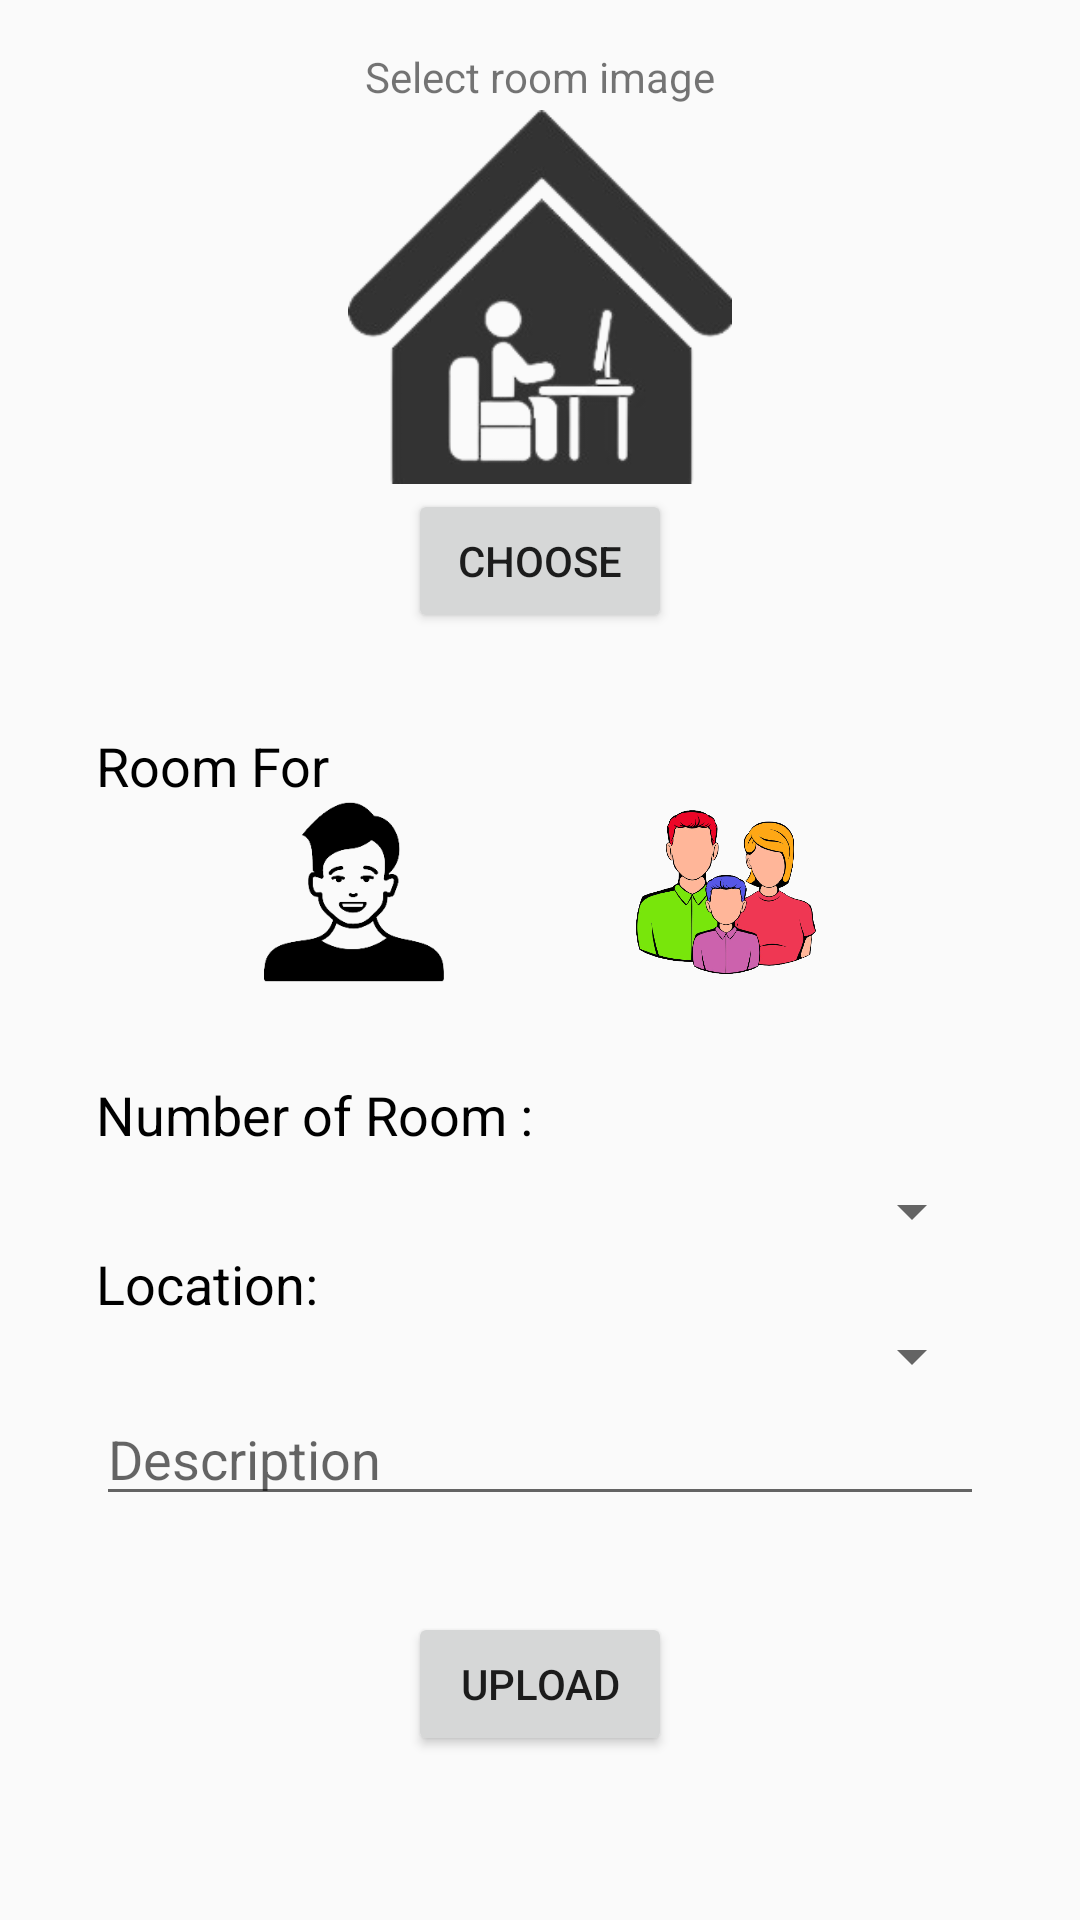

Icons on this 1080px×1920px Android screen, each with the point to tap as (x,y):
multiple: (726,892)
single: (354,892)
